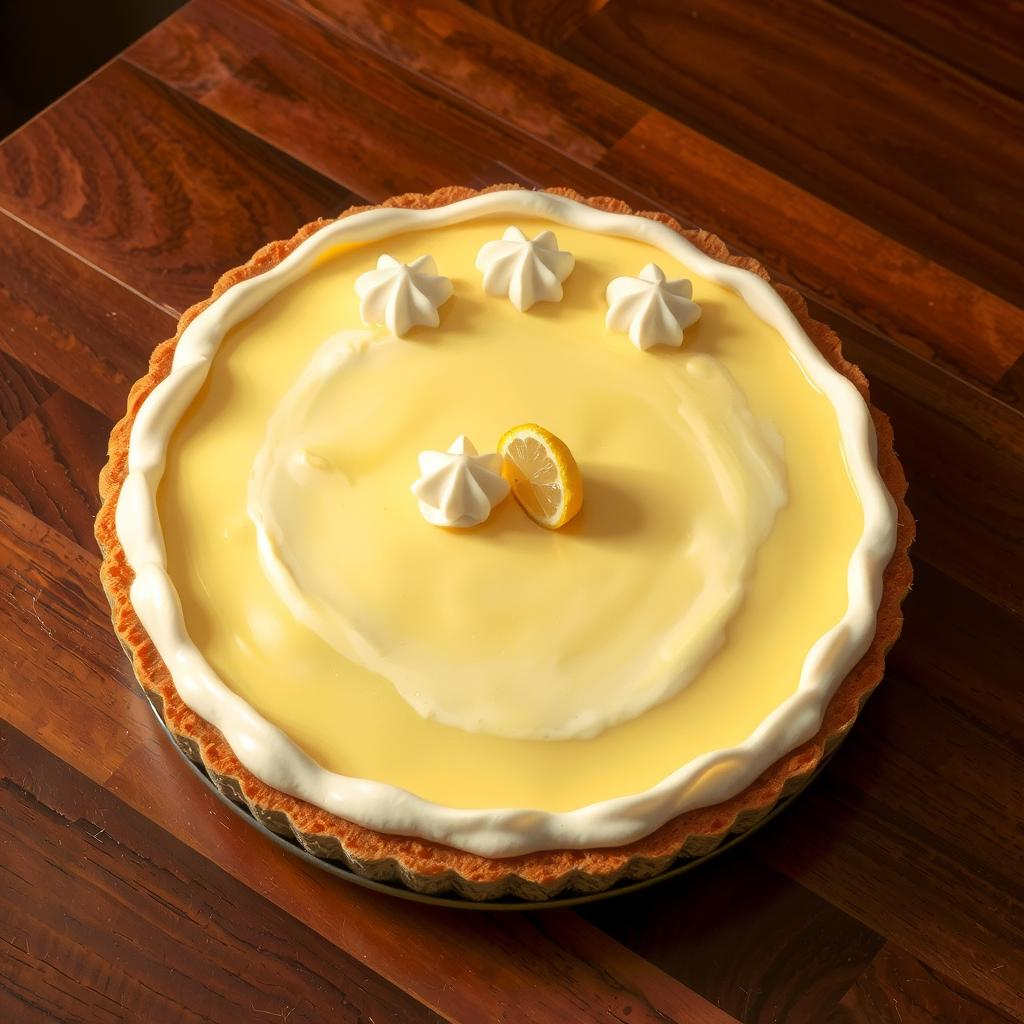pie: (86, 174, 927, 920)
